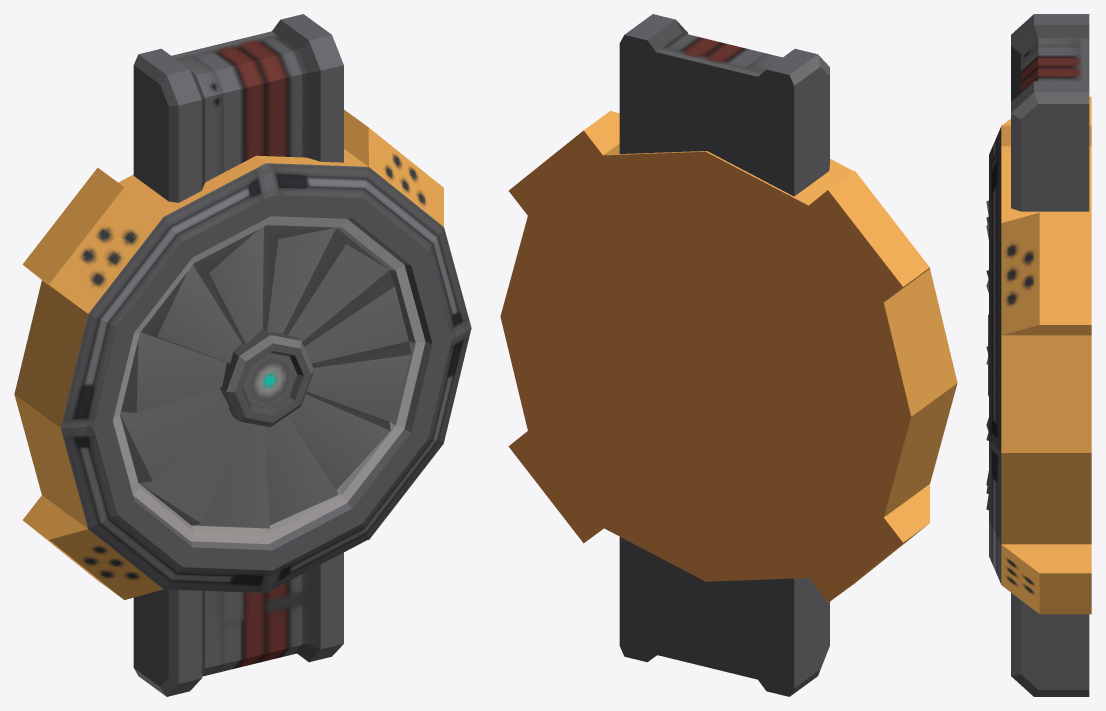
File: SM_Prop_Greebles_06.fbx
3 views of the same model, side by side, from view 1: azimuth 30°, elevation 25°; view 2: azimuth 150°, elevation 25°; view 3: azimuth 270°, elevation 25° (orthographic). The views are drawn at different scales.
Visible parts, largest first — view 1: SM_Prop_Greebles_06; view 2: SM_Prop_Greebles_06; view 3: SM_Prop_Greebles_06.
Part boxes in pixels (x1,y1,x2,y2): SM_Prop_Greebles_06: [14, 14, 471, 696]; SM_Prop_Greebles_06: [500, 14, 957, 696]; SM_Prop_Greebles_06: [986, 14, 1091, 696].
Bounding box in the file's own units: 84.83 × 123 × 19.34.
